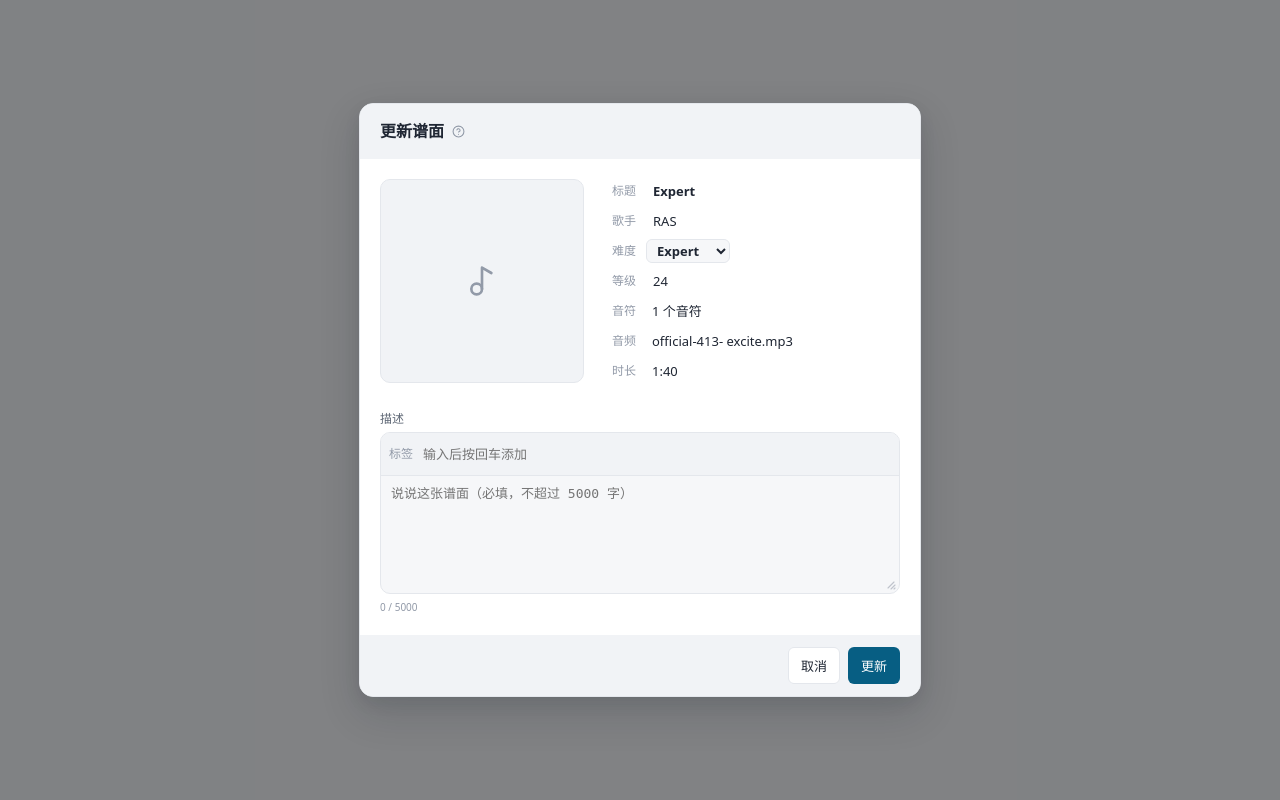
Test: 票 51 · 标签芯片与已发态 › 已发：post/edit 失败则弹窗留着报错，不关窗
Click the button "更新" at (874, 665), box [848, 647, 900, 684]
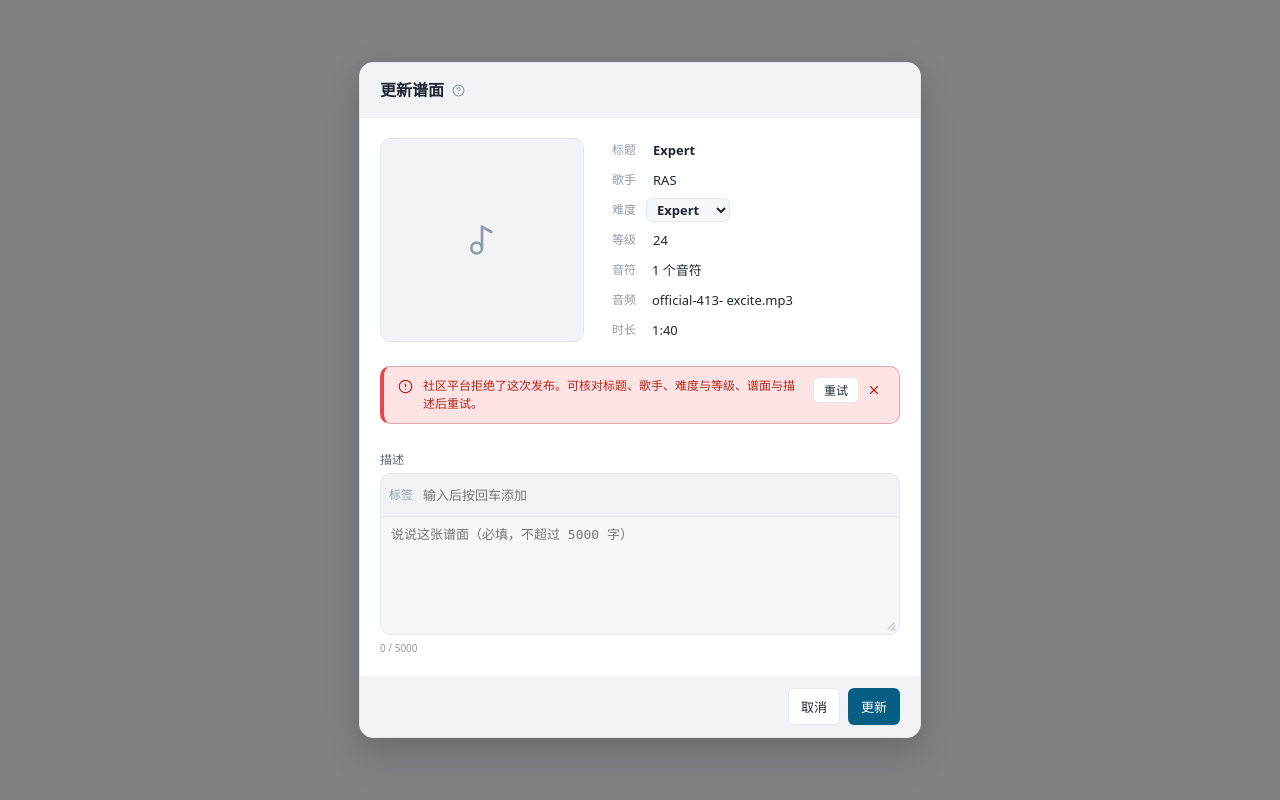
Check: the dialog is shown, box [359, 62, 921, 738]
Check: the message shows "社区平台拒绝了这次发布", box [423, 377, 795, 412]
